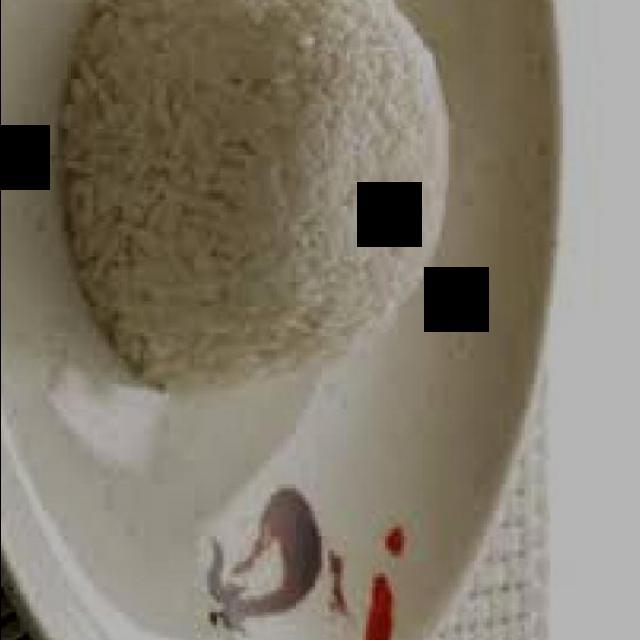rice: (54, 0, 452, 404)
